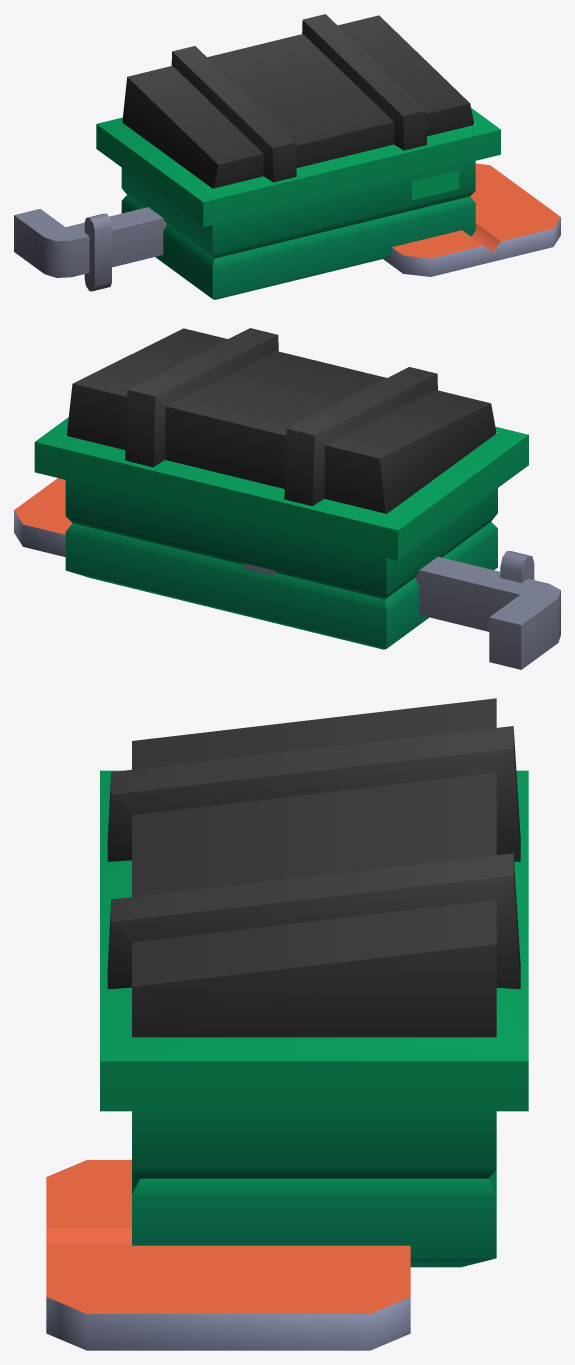
File: scrapyard.glb
The picture shows the model from 3 angles, top to bottom: view 1: azimuth 30°, elevation 25°; view 2: azimuth 150°, elevation 25°; view 3: azimuth 270°, elevation 25°; orthographic projection. The views are drawn at different scales.
Visible parts, largest first — view 1: dumpster, debris-plate-a, debris-bumper; view 2: dumpster, debris-bumper, debris-plate-a; view 3: dumpster, debris-plate-a.
Part boxes in pixels (x1=…): dumpster: x1=96, y1=14, x2=500, y2=299; debris-plate-a: x1=383, y1=163, x2=560, y2=276; debris-bumper: x1=14, y1=207, x2=166, y2=291; dumpster: x1=34, y1=328, x2=528, y2=649; debris-bumper: x1=243, y1=551, x2=560, y2=669; debris-plate-a: x1=14, y1=478, x2=72, y2=556; dumpster: x1=100, y1=698, x2=528, y2=1267; debris-plate-a: x1=46, y1=1160, x2=410, y2=1350.
Size of the model in its own units: 2.54 by 0.9518 by 1.19.
Materials: 2 (2 with a texture image).
